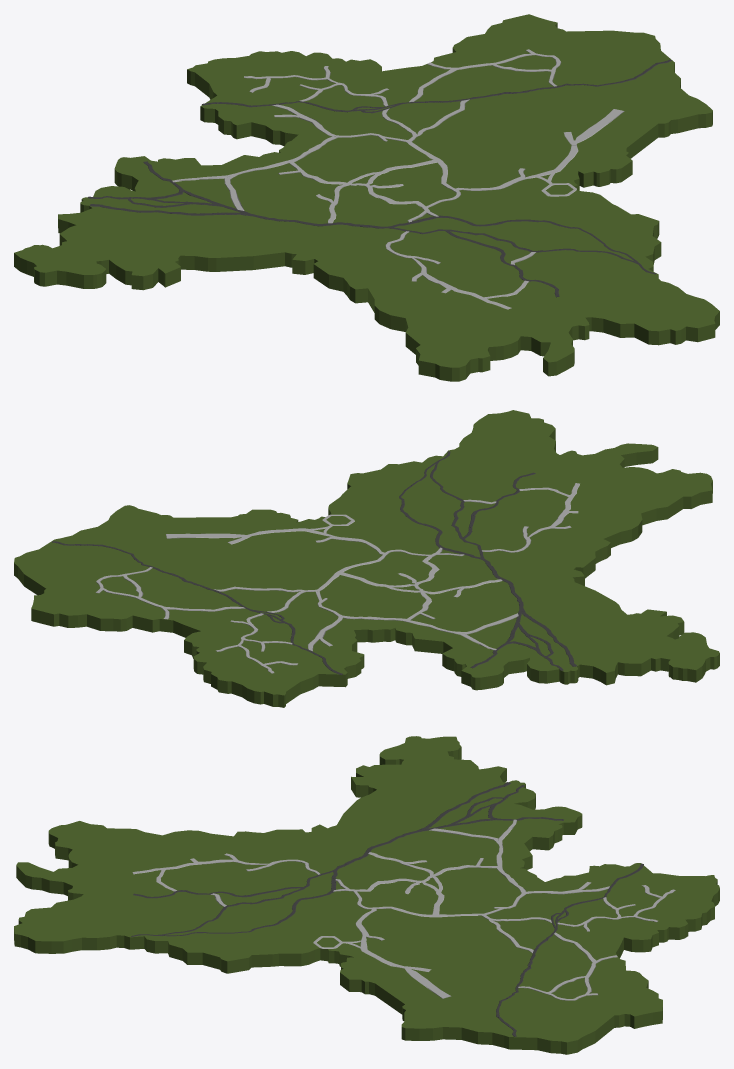
File: Mapa so ulici.fbx
3 renders of one model, top to bottom at view 1: azimuth 30°, elevation 25°; view 2: azimuth 150°, elevation 25°; view 3: azimuth 270°, elevation 25°, orthographic. The views are drawn at different scales.
Visible parts, largest first — view 1: Mapa, Side_Roads, Main_road_1, Main_Road_2; view 2: Mapa, Side_Roads, Main_road_1, Main_Road_2; view 3: Mapa, Side_Roads, Main_road_1, Main_Road_2.
Boxes of the visible parts, box(x1,y1,x2,y2) form: Mapa: box(14, 14, 719, 381); Side_Roads: box(172, 49, 624, 309); Main_road_1: box(88, 161, 656, 297); Main_Road_2: box(202, 59, 671, 113); Mapa: box(14, 410, 719, 707); Side_Roads: box(95, 483, 579, 673); Main_road_1: box(399, 451, 577, 670); Main_Road_2: box(52, 541, 342, 675); Mapa: box(14, 736, 719, 1054); Side_Roads: box(132, 819, 675, 1000); Main_road_1: box(131, 782, 563, 936); Main_Road_2: box(496, 863, 643, 1036).
Bounding box in the file's own units: 187704 × 3735 × 182846.
